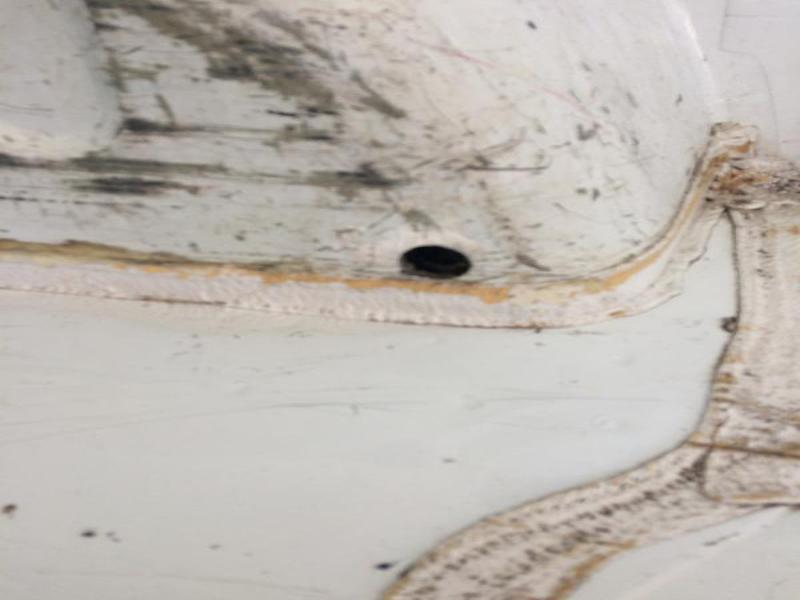hole: (394, 241, 475, 284)
